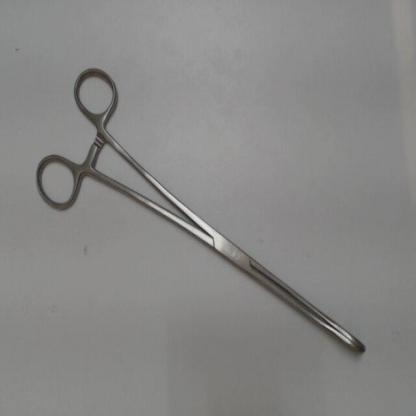Sponge Forceps: (27, 51, 375, 367)
